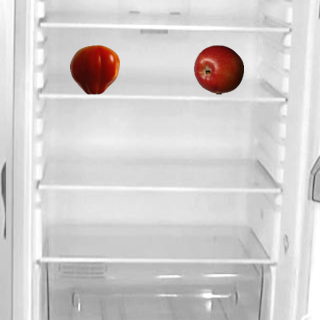Apple Braeburn: (193, 44, 243, 94)
Tomato 1: (69, 44, 119, 94)
